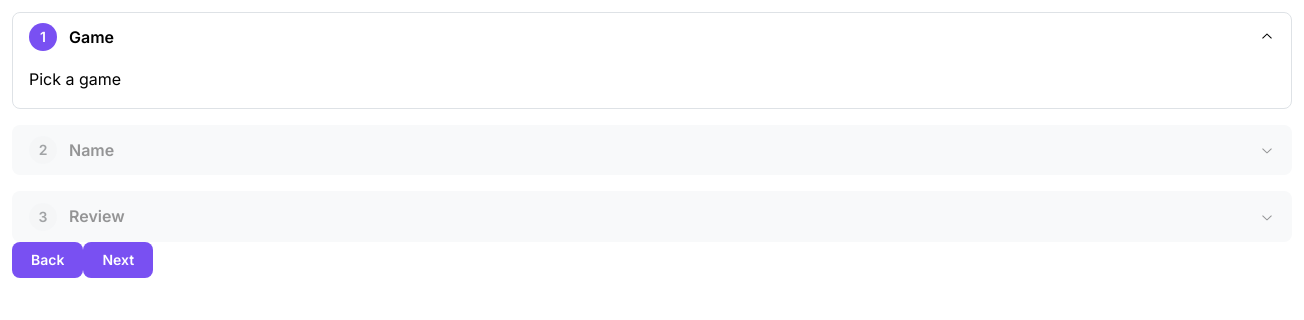
FormSections › goes back to a completed section by Back or by its header
Click the button "Next" at [118, 260], box 83,242 -> 153,278
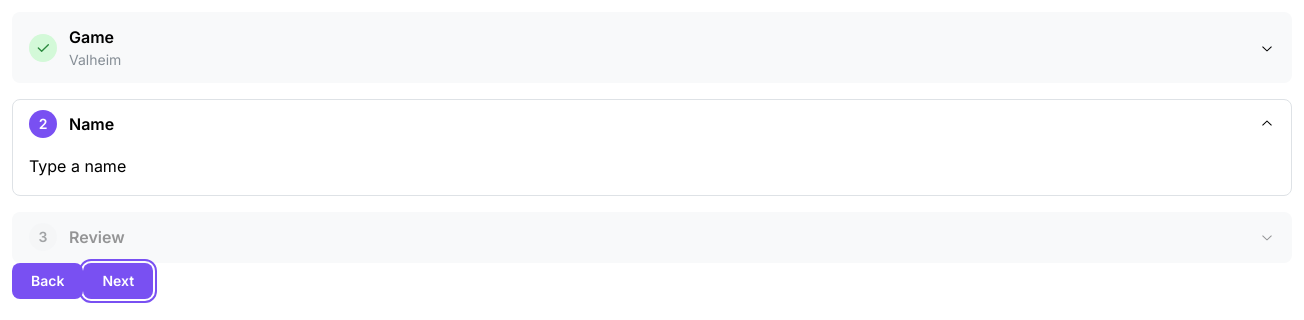
Click the button "Back" at [48, 281], box 12,263 -> 83,299
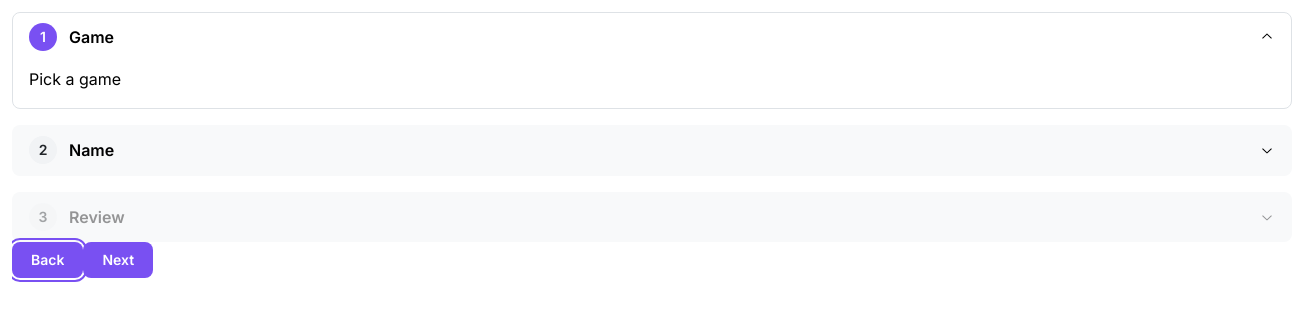
expect the button "Game 1" is expanded: met, box 13,13 -> 1291,62
Click the button "Name 2" at [92, 150], box 13,126 -> 1291,175
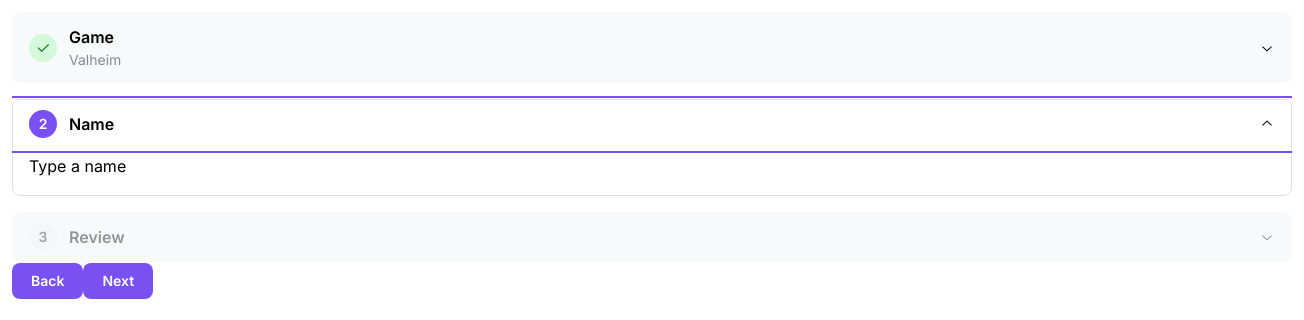
expect the button "Name 2" is expanded: met, box 13,100 -> 1291,149
